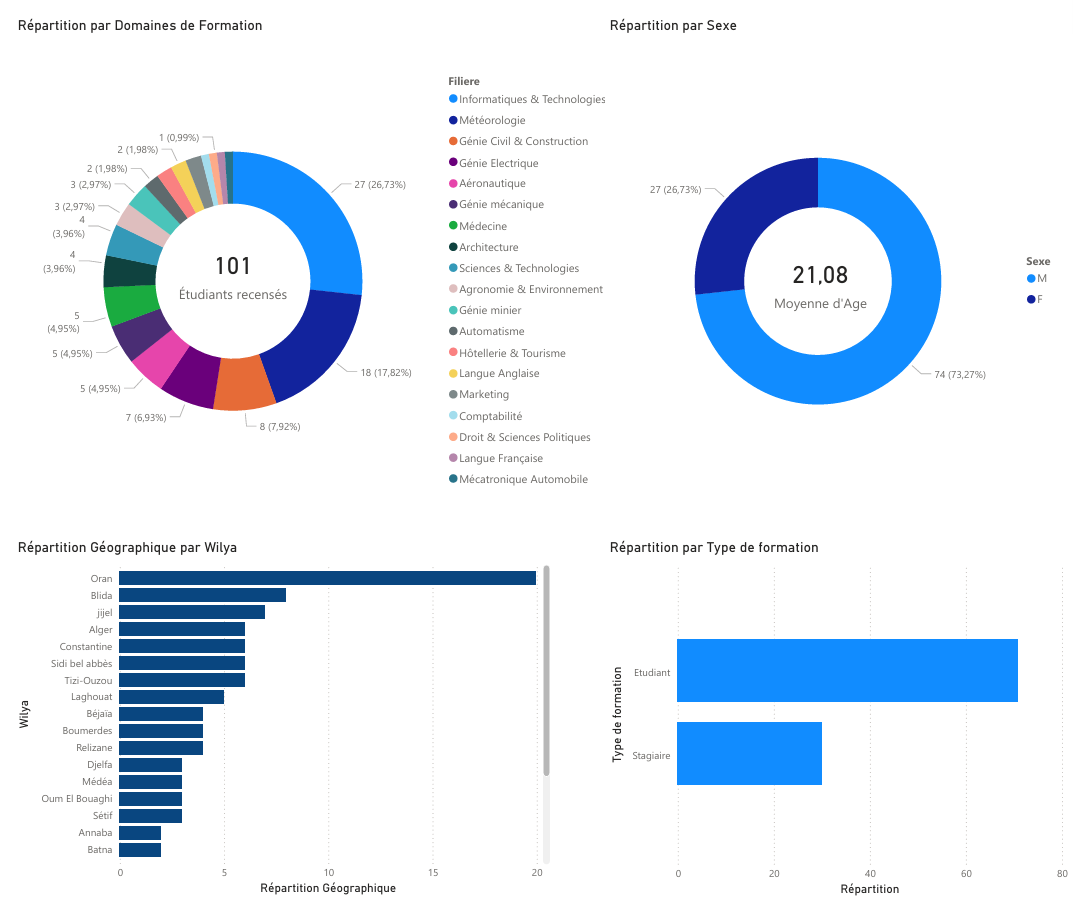

What the dashboard file says about the page in this screenshot:
{"tool":"powerbi","page":{"name":"Principale","canvas":[1280,1200],"ordinal":0},"visuals":[{"type":"textbox","box":[10,0,280,280],"z":0},{"type":"textbox","box":[417.8,13.2,478.3,113.4],"z":1000},{"type":"donutChart","title":"Répartition par Domaines de Formation","fields":{"Category":["Table 1.Filiere"],"Y":["Table 1.Filiere"]},"box":[9.5,139.9,725.9,616.3],"z":2000},{"type":"card","title":"Effectif Global","fields":{"Values":["Table 1.Filiere"]},"box":[196.6,404.5,151.2,87],"z":3000},{"type":"clusteredBarChart","fields":{"Category":["Table 1.Wilya"],"Y":["Table 1.Wilya"]},"box":[9.5,765.6,648.4,434.8],"z":4000},{"type":"donutChart","fields":{"Category":["Table 1.Sexe"],"Y":["Table 1.Sexe"]},"box":[720.2,139.9,559.5,616.3],"z":5000},{"type":"card","fields":{"Values":["Table 1.Age"]},"box":[911.2,404.5,134.2,107.8],"z":6000},{"type":"clusteredBarChart","fields":{"Category":["Table 1.Type de formation"],"Y":["Table 1.Type de formation"]},"box":[720,766,560,434],"z":7000}]}

Visuals, with their boxes on the page's 1280x1200 design canvas (x1, y1, x2, y2). These are canvas units, not pixel positions in the 1075x902 screenshot, which may show the page scaled, cropped or inside an application window:
textbox: [left=10, top=0, right=290, bottom=280]
textbox: [left=418, top=13, right=896, bottom=127]
"Répartition par Domaines de Formation" donutChart: [left=10, top=140, right=735, bottom=756]
"Effectif Global" card: [left=197, top=404, right=348, bottom=492]
clusteredBarChart - Table 1.Wilya x Table 1.Wilya: [left=10, top=766, right=658, bottom=1200]
donutChart - Table 1.Sexe x Table 1.Sexe: [left=720, top=140, right=1280, bottom=756]
card - Table 1.Age: [left=911, top=404, right=1045, bottom=512]
clusteredBarChart - Table 1.Type de formation x Table 1.Type de formation: [left=720, top=766, right=1280, bottom=1200]
